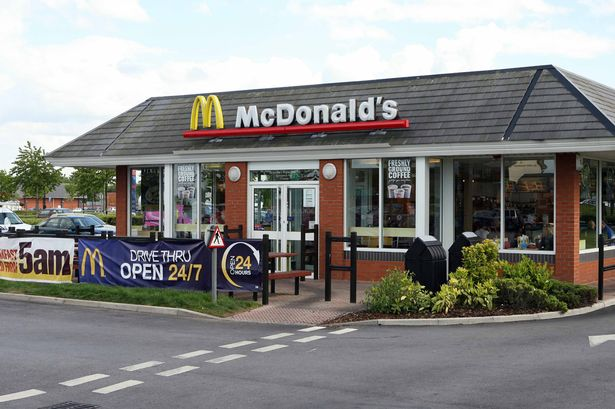mcdonalds: (185, 92, 230, 134)
